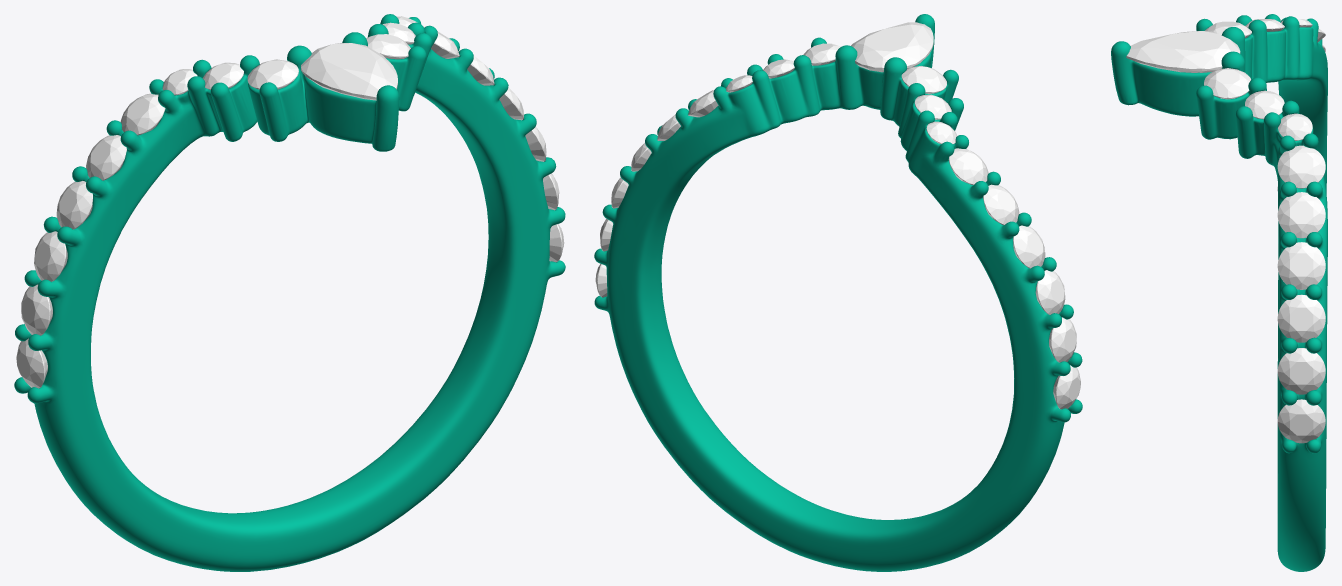
File: BE2D064LC_RENDER.glb
The picture shows the model from 3 angles, left to right: view 1: azimuth 30°, elevation 25°; view 2: azimuth 150°, elevation 25°; view 3: azimuth 270°, elevation 25°; orthographic projection. The views are drawn at different scales.
Parts seen in each view (by area): view 1: Metal03, Diamond_Pear_Gem_BD, Diamond_Round_Gem_BD.016, Diamond_Round_Gem_BD.015, Diamond_Round_Gem_BD.012, Diamond_Round_Gem_BD.017, Diamond_Round_Gem_BD.013, Diamond_Round_Gem_BD.005, Diamond_Round_Gem_BD.014, Diamond_Round_Gem_BD, Diamond_Round_Gem_BD.004; view 2: Metal03, Diamond_Pear_Gem_BD, Diamond_Round_Gem_BD.016, Diamond_Round_Gem_BD.015, Diamond_Round_Gem_BD.017, Diamond_Round_Gem_BD.012, Diamond_Round_Gem_BD.013, Diamond_Round_Gem_BD.005, Diamond_Round_Gem_BD.014; view 3: Metal03, Diamond_Pear_Gem_BD, Diamond_Round_Gem_BD.006, Diamond_Round_Gem_BD.009, Diamond_Round_Gem_BD.007, Diamond_Round_Gem_BD.010, Diamond_Round_Gem_BD.008, Diamond_Round_Gem_BD.011, Diamond_Round_Gem_BD, Diamond_Round_Gem_BD.001, Diamond_Round_Gem_BD.002, Diamond_Round_Gem_BD.005.
Boxes of the visible parts, <box> form: Metal03: <box>14,14,565,571</box>; Diamond_Pear_Gem_BD: <box>301,43,397,100</box>; Diamond_Round_Gem_BD.016: <box>86,135,126,180</box>; Diamond_Round_Gem_BD.015: <box>56,181,92,229</box>; Diamond_Round_Gem_BD.012: <box>34,231,67,281</box>; Diamond_Round_Gem_BD.017: <box>120,93,165,135</box>; Diamond_Round_Gem_BD.013: <box>21,284,52,335</box>; Diamond_Round_Gem_BD.005: <box>247,59,298,89</box>; Diamond_Round_Gem_BD.014: <box>16,338,47,388</box>; Diamond_Round_Gem_BD: <box>366,34,410,59</box>; Diamond_Round_Gem_BD.004: <box>202,62,243,89</box>; Metal03: <box>594,14,1082,571</box>; Diamond_Pear_Gem_BD: <box>851,22,933,72</box>; Diamond_Round_Gem_BD.016: <box>983,184,1019,225</box>; Diamond_Round_Gem_BD.015: <box>1013,225,1045,268</box>; Diamond_Round_Gem_BD.017: <box>948,148,988,184</box>; Diamond_Round_Gem_BD.012: <box>1035,270,1065,314</box>; Diamond_Round_Gem_BD.013: <box>1049,317,1076,362</box>; Diamond_Round_Gem_BD.005: <box>901,66,946,93</box>; Diamond_Round_Gem_BD.014: <box>1053,365,1080,409</box>; Metal03: <box>1111,14,1327,571</box>; Diamond_Pear_Gem_BD: <box>1126,31,1240,72</box>; Diamond_Round_Gem_BD.006: <box>1277,294,1325,342</box>; Diamond_Round_Gem_BD.009: <box>1277,242,1325,289</box>; Diamond_Round_Gem_BD.007: <box>1277,348,1325,394</box>; Diamond_Round_Gem_BD.010: <box>1277,192,1325,238</box>; Diamond_Round_Gem_BD.008: <box>1277,399,1325,443</box>; Diamond_Round_Gem_BD.011: <box>1277,145,1325,188</box>; Diamond_Round_Gem_BD: <box>1204,68,1250,99</box>; Diamond_Round_Gem_BD.001: <box>1245,90,1284,119</box>; Diamond_Round_Gem_BD.002: <box>1278,113,1312,140</box>; Diamond_Round_Gem_BD.005: <box>1205,21,1251,37</box>.
Size of the model in its own units: 21.36 by 20.94 by 8.13.
